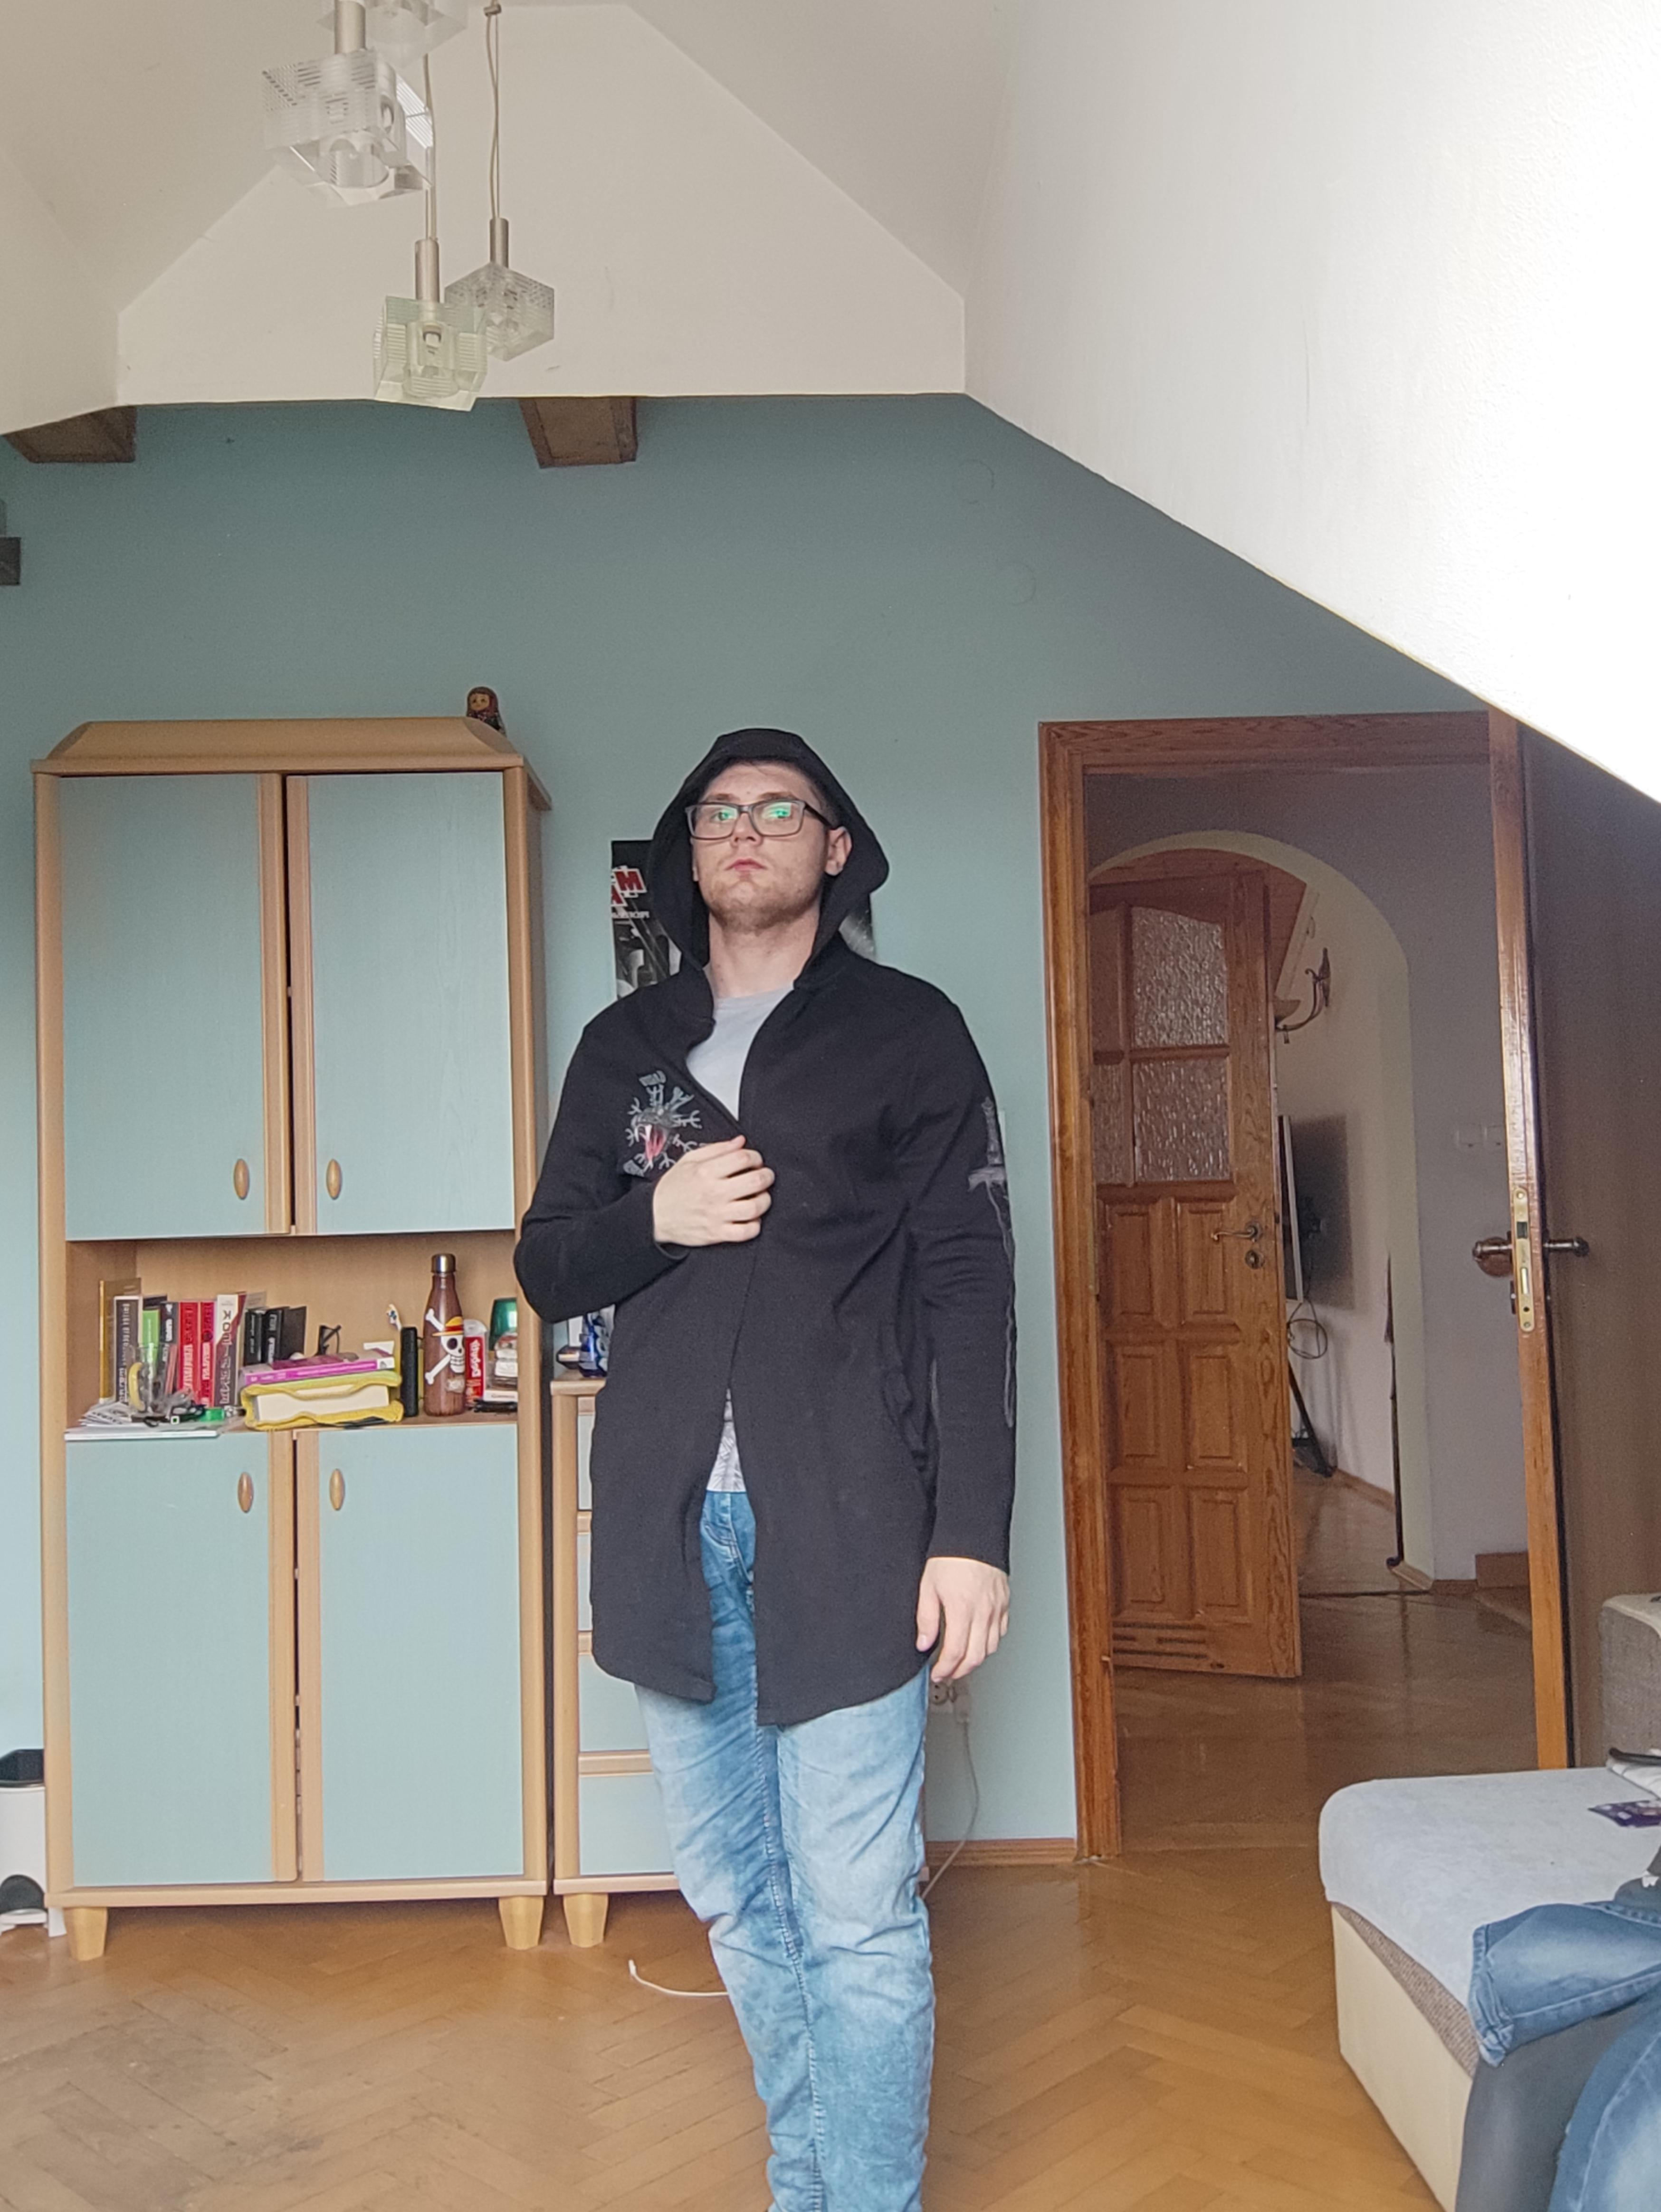pants: (635, 1485, 939, 2212)
sweater: (518, 722, 1019, 1729)
